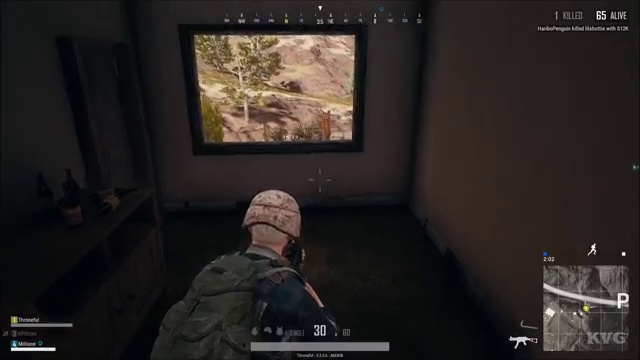Player: (179, 177, 374, 323)
